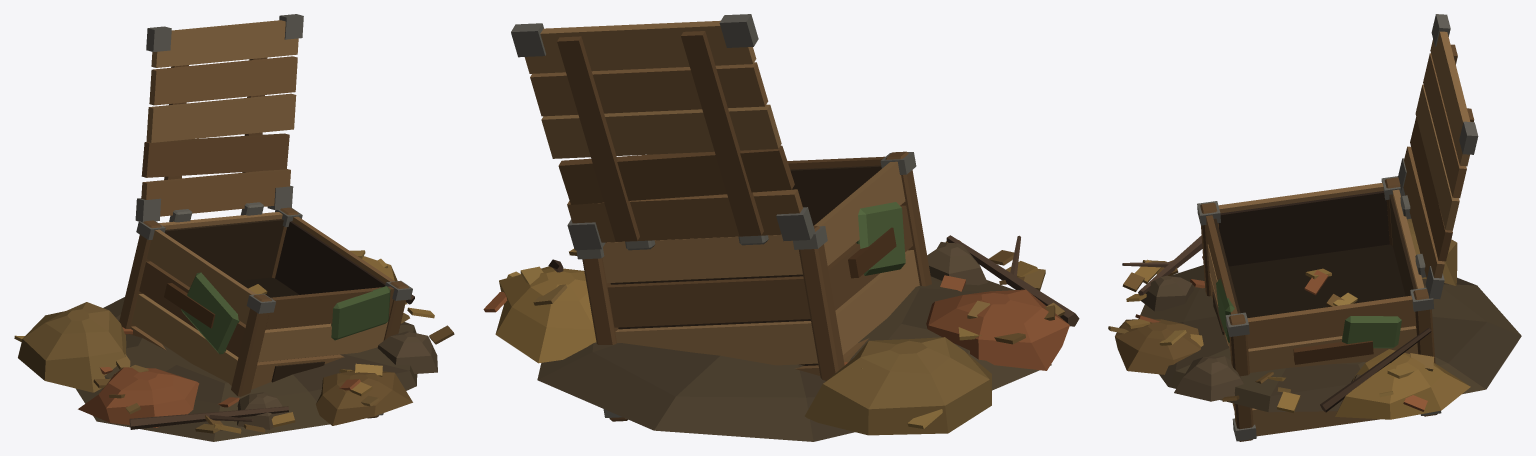
Rendered from caixa_escondida_aberta.glb.
The picture shows the model from 3 angles, left to right: view 1: azimuth 30°, elevation 25°; view 2: azimuth 150°, elevation 25°; view 3: azimuth 270°, elevation 25°; orthographic projection. The views are drawn at different scales.
Visible parts, largest first — view 1: caixa_escondida_aberta.001; view 2: caixa_escondida_aberta.001; view 3: caixa_escondida_aberta.001.
Boxes of the visible parts, x1,y1,x2,y2 form: caixa_escondida_aberta.001: (14, 14, 454, 441); caixa_escondida_aberta.001: (483, 14, 1079, 441); caixa_escondida_aberta.001: (1108, 14, 1521, 441).
Size of the model in its own units: 1.97 by 1.8 by 1.86.
